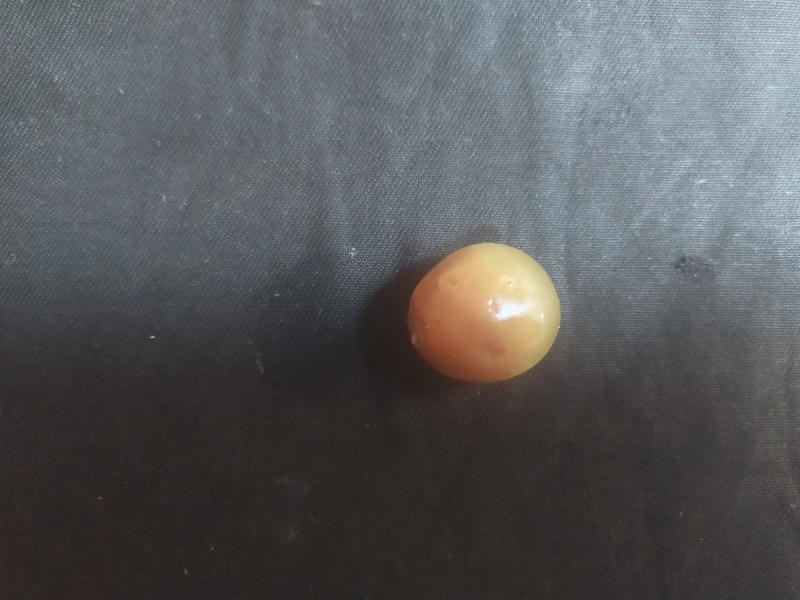Grape Rotten: (406, 243, 562, 383)
